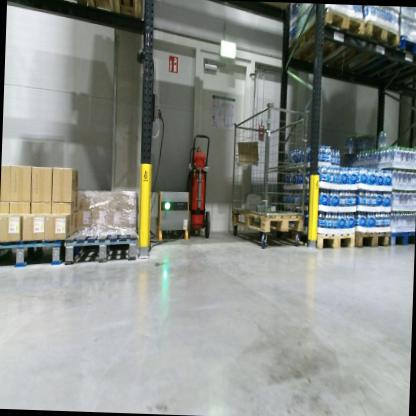pallet: (321, 18, 407, 85), (285, 9, 367, 70), (62, 220, 142, 272), (359, 35, 416, 89), (0, 231, 67, 271), (231, 208, 306, 234), (86, 0, 146, 30), (301, 228, 357, 256), (353, 224, 390, 249), (30, 0, 86, 10), (389, 232, 414, 246)
